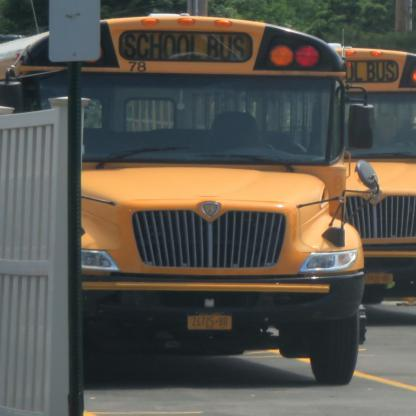Bus: (0, 10, 383, 386), (327, 41, 416, 303)
